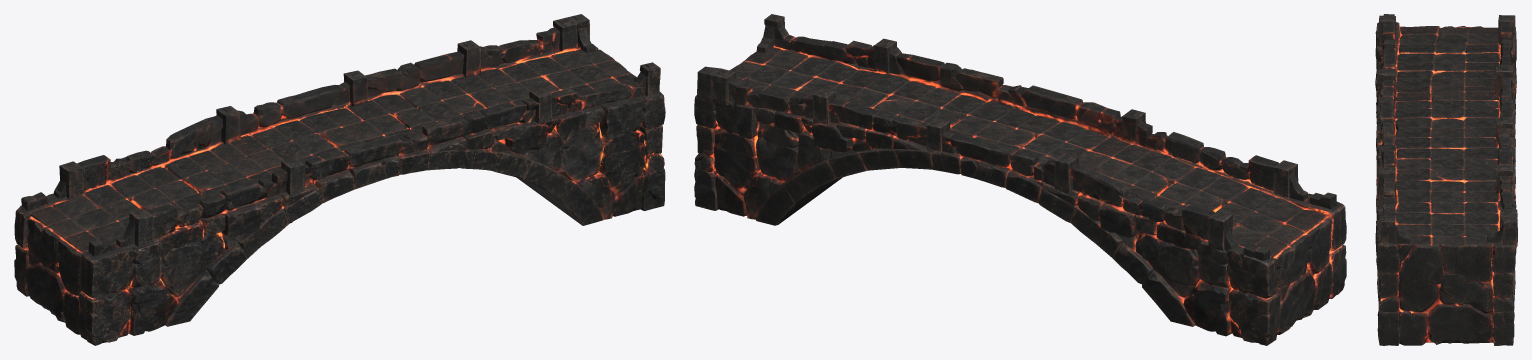
Rendered from bridge.glb.
3 renders of one model, left to right at view 1: azimuth 30°, elevation 25°; view 2: azimuth 150°, elevation 25°; view 3: azimuth 270°, elevation 25°, orthographic. The views are drawn at different scales.
Size of the model in its own units: 1.9 by 0.4472 by 0.46.
Materials: 1 (1 with a texture image).
